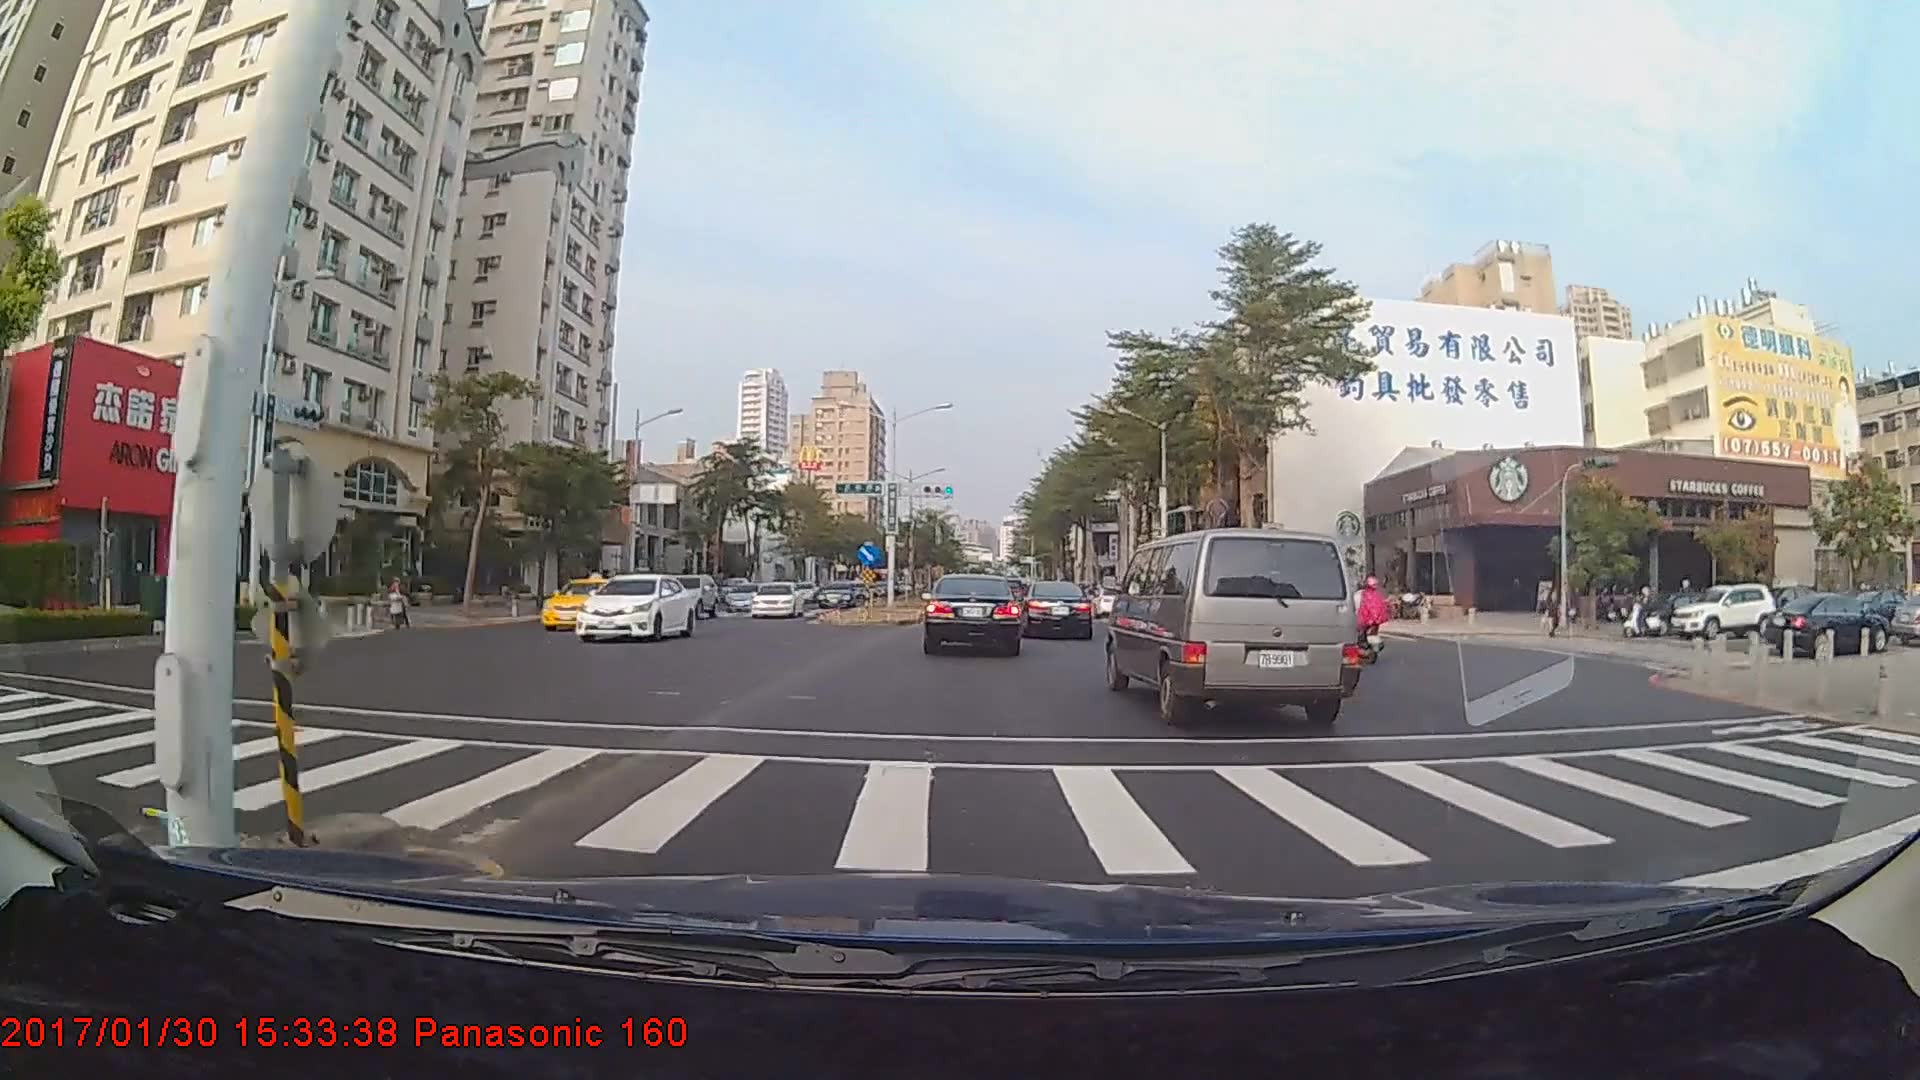rider: (1623, 581, 1667, 641)
vehicle: (1107, 524, 1353, 724), (571, 570, 696, 642), (1752, 585, 1889, 651), (922, 573, 1023, 656), (1668, 585, 1779, 638), (539, 576, 636, 633), (1022, 579, 1094, 640), (656, 573, 718, 620), (746, 581, 801, 617), (816, 582, 857, 608)
